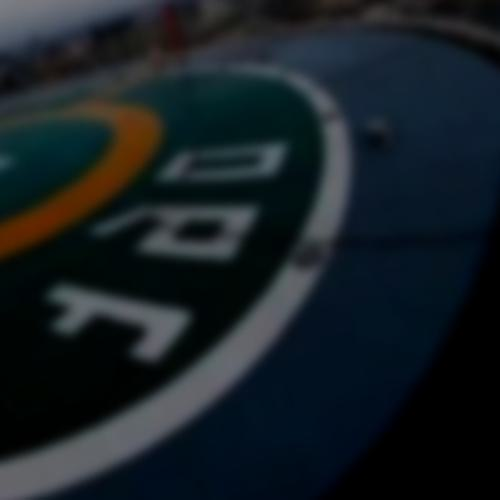Apron: (1, 97, 163, 238)
